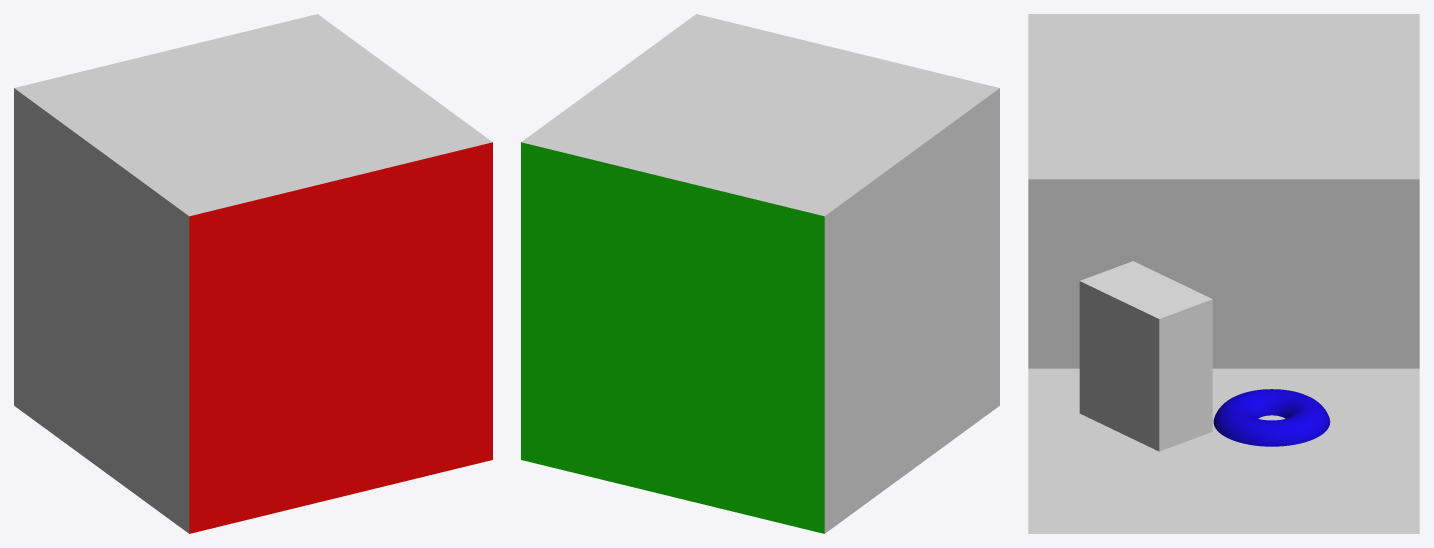
File: cornel.fbx
3 renders of one model, left to right at view 1: azimuth 30°, elevation 25°; view 2: azimuth 150°, elevation 25°; view 3: azimuth 270°, elevation 25°, orthographic. The views are drawn at different scales.
Visible parts, largest first — view 1: Cube; view 2: Cube; view 3: Cube, Cube.001, Torus.
Part boxes in pixels (bbox=[...]): Cube: bbox=[14, 14, 492, 533]; Cube: bbox=[521, 14, 999, 533]; Cube: bbox=[1028, 14, 1419, 533]; Cube.001: bbox=[1079, 261, 1212, 451]; Torus: bbox=[1213, 389, 1330, 446].
Bounding box in the file's own units: 200 × 214 × 200.
